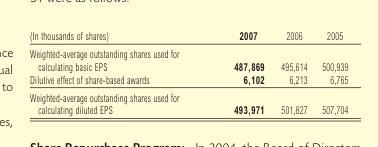table: (29, 28, 347, 115)
table column: (29, 28, 205, 115), (205, 28, 271, 115), (271, 28, 313, 115), (313, 28, 347, 115)
table column header: (29, 28, 347, 44)
table row: (29, 44, 347, 72), (29, 87, 347, 115), (29, 28, 347, 44), (29, 72, 347, 87)
